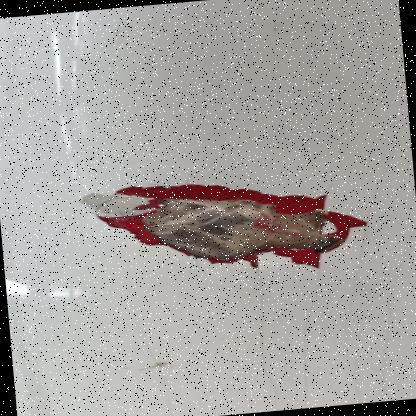Crack: (210, 140, 415, 415), (61, 142, 409, 299), (125, 299, 197, 415)
